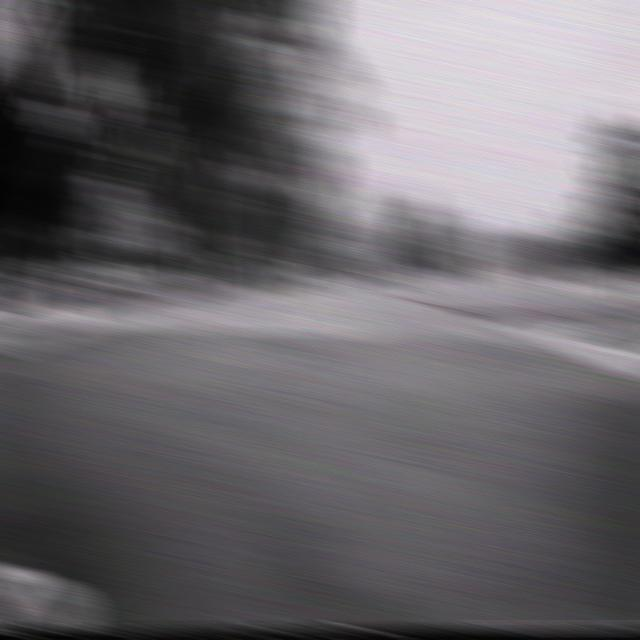speedLimit30: (429, 209, 459, 239)
